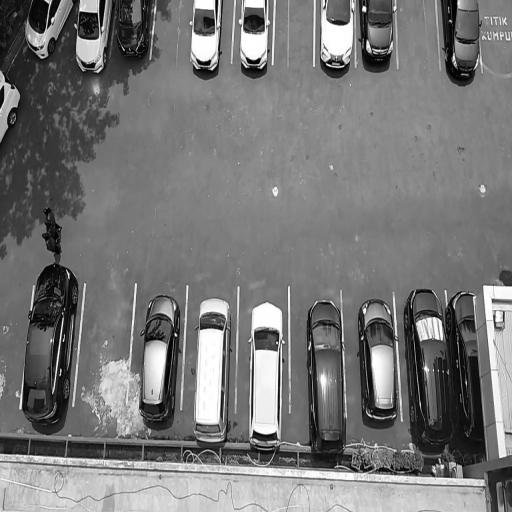Car: (16, 259, 78, 434), (402, 283, 458, 455), (303, 293, 350, 462), (446, 288, 489, 460), (244, 296, 290, 455), (191, 289, 233, 451), (356, 293, 402, 431), (138, 288, 180, 434), (440, 0, 483, 85), (69, 0, 113, 80), (356, 0, 398, 77), (22, 0, 72, 64), (318, 0, 356, 77), (113, 0, 154, 71), (236, 0, 272, 78), (188, 0, 222, 78), (0, 57, 22, 156)
Space Available: (83, 273, 129, 425), (399, 0, 439, 74), (276, 0, 313, 70), (154, 2, 192, 66), (481, 0, 512, 78)
